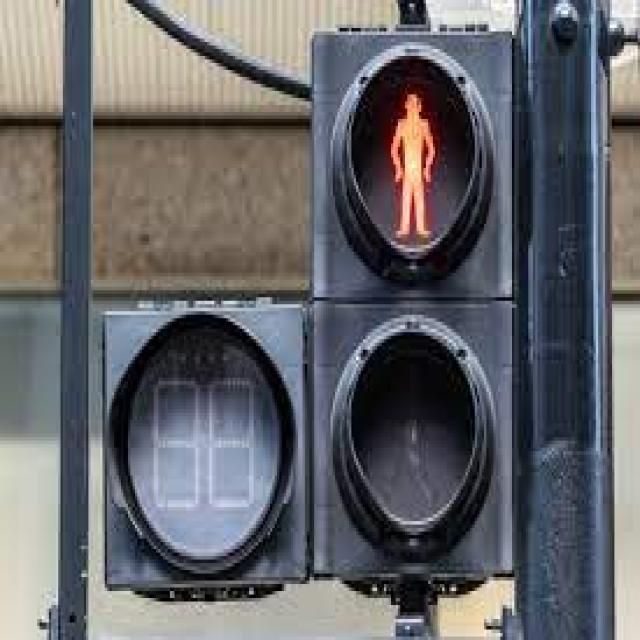red_light: (376, 85, 443, 239)
